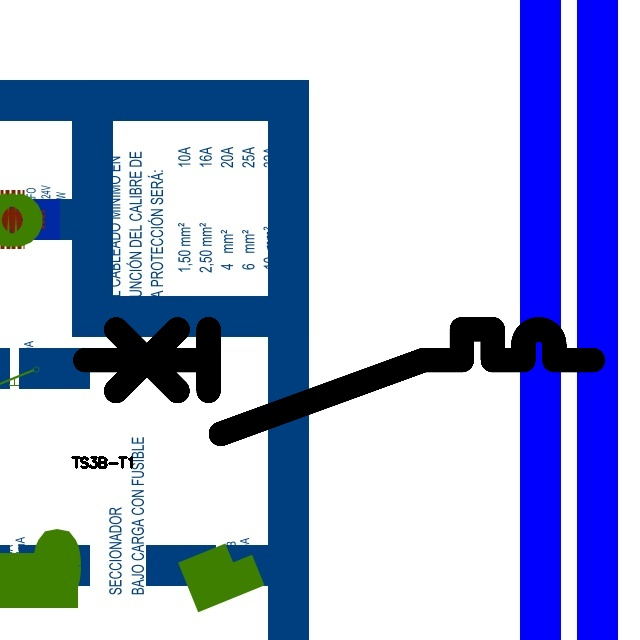interruptor_termomagnetico: (72, 316, 606, 447)
